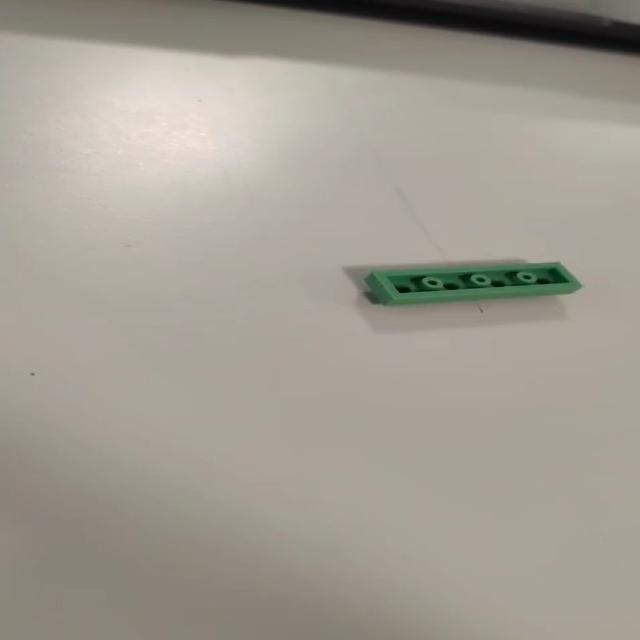C4x1x0: (357, 259, 578, 306)
